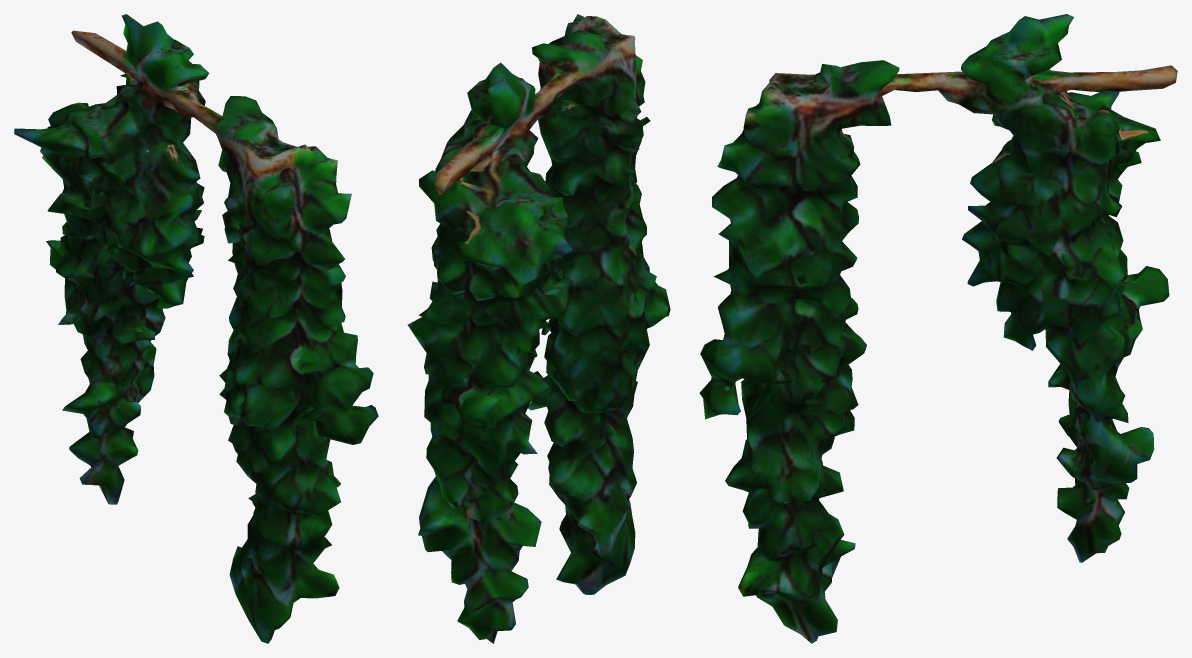
The model's file is 5f5ada0d37f2_emerald_ivy_vines_m.fbx.
3 renders of one model, left to right at view 1: azimuth 30°, elevation 25°; view 2: azimuth 150°, elevation 25°; view 3: azimuth 270°, elevation 25°, orthographic. The views are drawn at different scales.
Visible parts, largest first — view 1: mesh; view 2: mesh; view 3: mesh.
Part boxes in pixels (x1,y1,x2,y2): mesh: [14, 14, 378, 643]; mesh: [407, 14, 670, 643]; mesh: [699, 14, 1177, 643].
Bounding box in the file's own units: 36.63 × 100 × 70.43.
